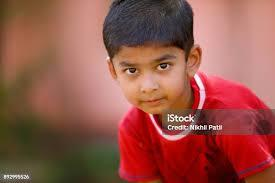Human: (98, 0, 275, 183)
